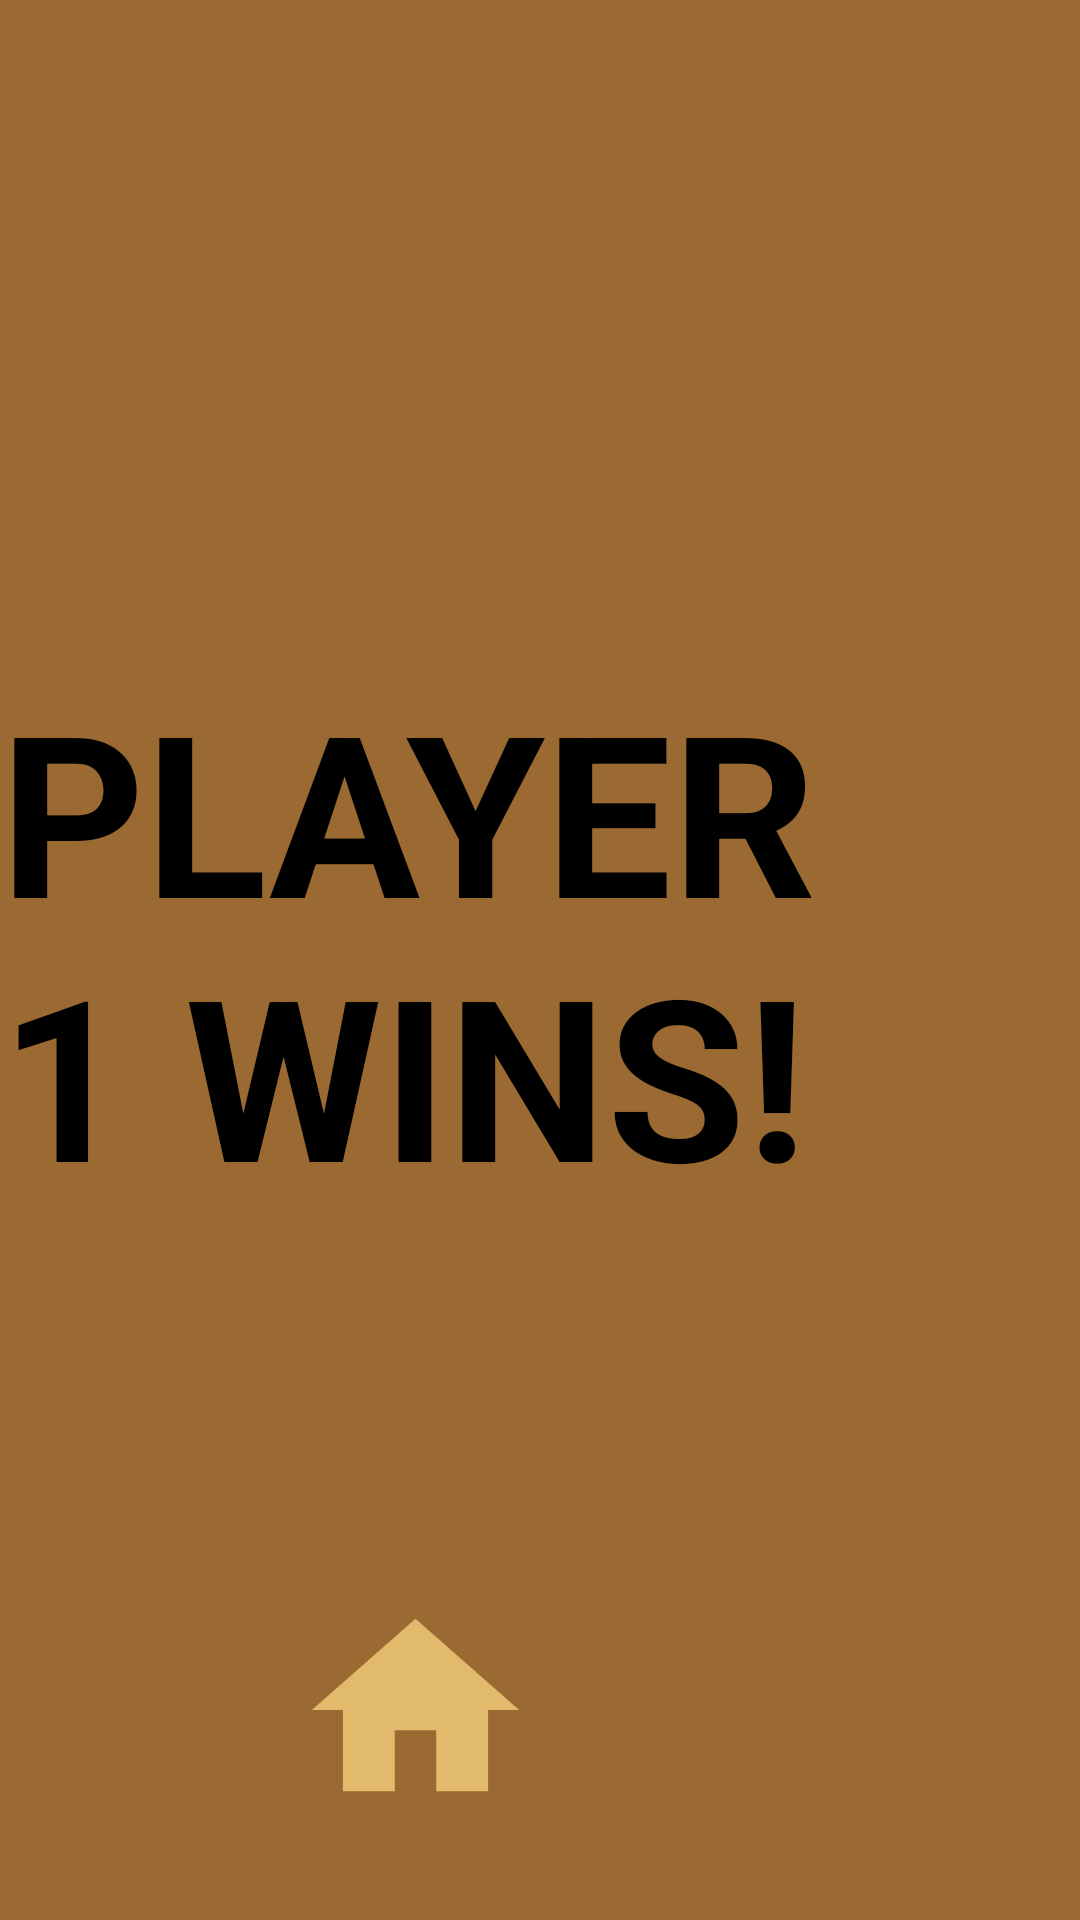

Point at icon controls on the screen. Image size 1080 × 1920, points as (x,y).
home: (415,1705)
